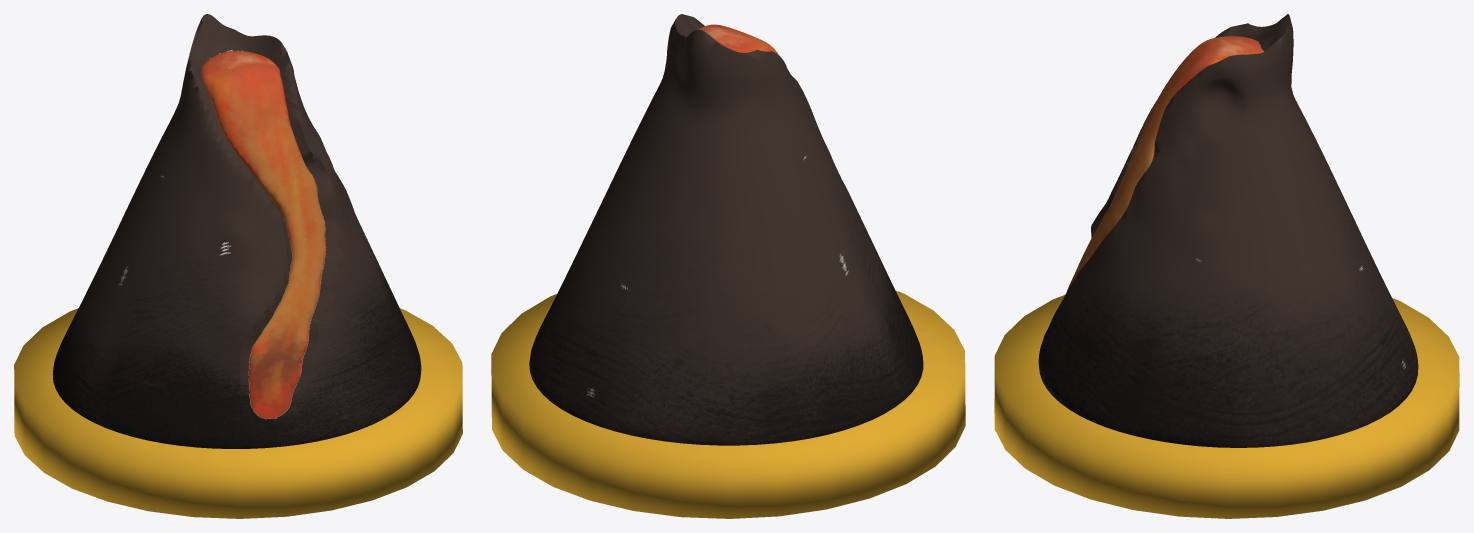
File: Plate 1.obj
3 views of the same model, side by side, from view 1: azimuth 30°, elevation 25°; view 2: azimuth 150°, elevation 25°; view 3: azimuth 270°, elevation 25° (orthographic). The views are drawn at different scales.
Parts seen in each view (by area): view 1: Cone_Cone, Cylinder, Cone_ext; view 2: Cone_Cone, Cylinder, Cone_ext; view 3: Cone_Cone, Cylinder, Cone_ext.
Part boxes in pixels (bbox=[...]): Cone_Cone: bbox=[52, 14, 421, 448]; Cylinder: bbox=[14, 308, 462, 518]; Cone_ext: bbox=[201, 51, 325, 418]; Cone_Cone: bbox=[529, 14, 923, 445]; Cylinder: bbox=[491, 290, 965, 518]; Cone_ext: bbox=[697, 24, 778, 54]; Cone_Cone: bbox=[1038, 14, 1418, 447]; Cylinder: bbox=[994, 295, 1459, 518]; Cone_ext: bbox=[1067, 36, 1262, 291].
Size of the model in its own units: 0.2484 by 0.2376 by 0.2473.
3 materials, 3 textured.
